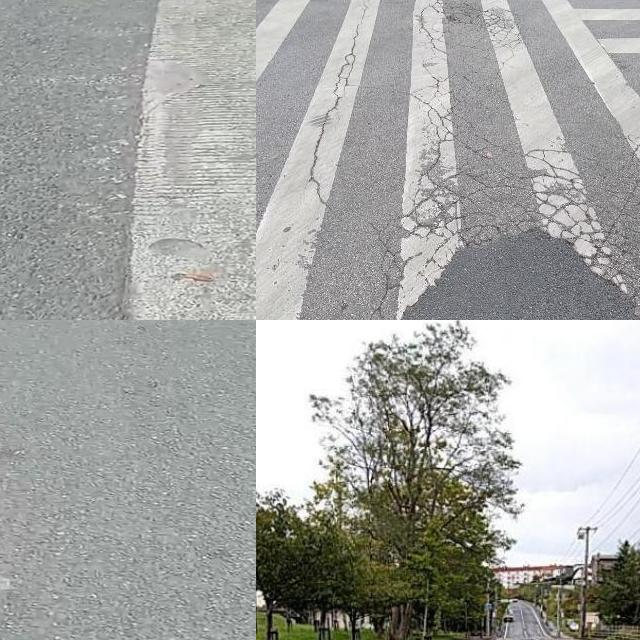Sambungan: (109, 0, 256, 320), (399, 227, 640, 320)
